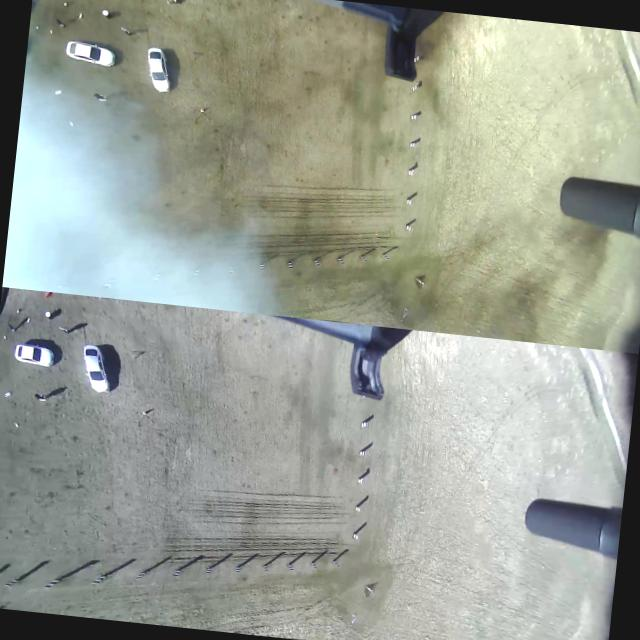car: (63, 34, 119, 68), (79, 342, 115, 392), (142, 44, 175, 92), (14, 335, 58, 368)
